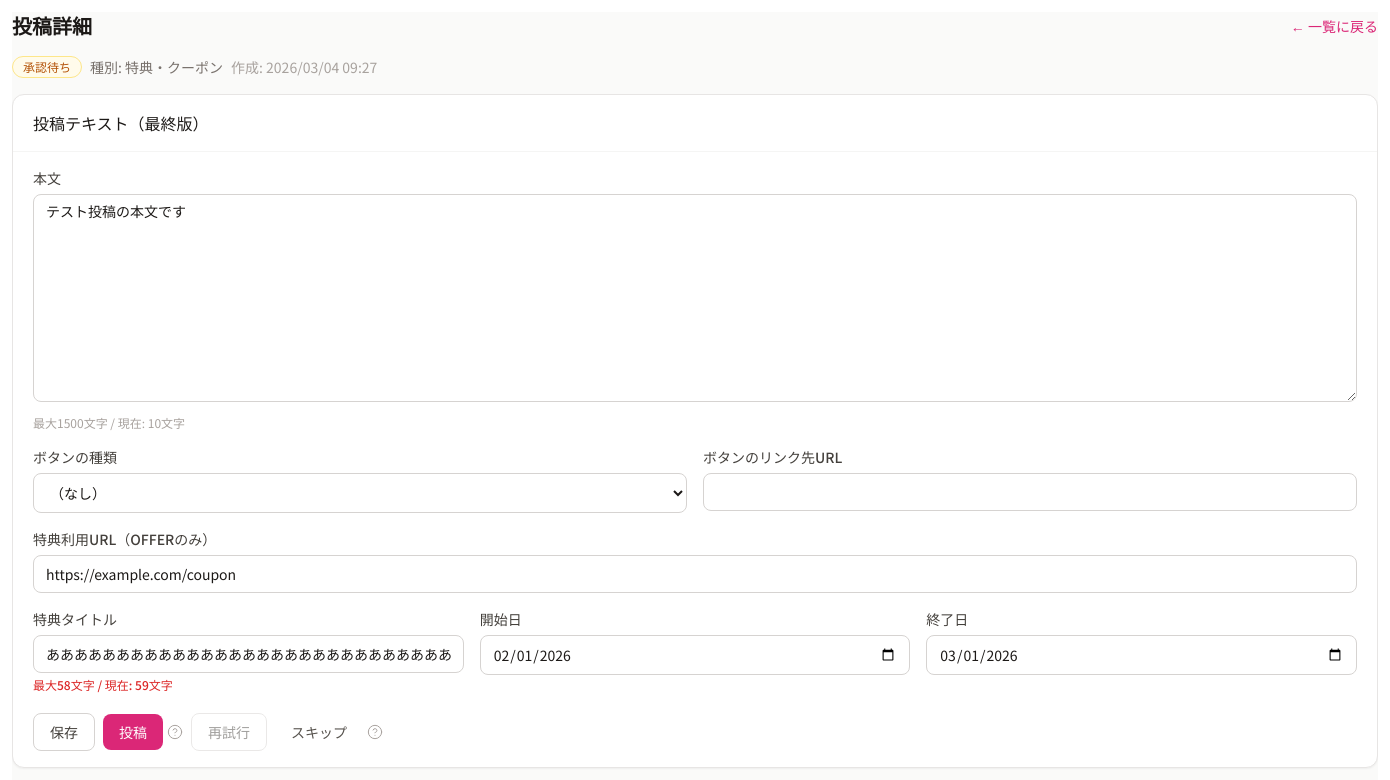
Test: PostDetailPage › OFFER post type › shows validation error when event_title exceeds 58 chars
Click the button "保存". click: (64, 732)
box: [33,713,95,751]
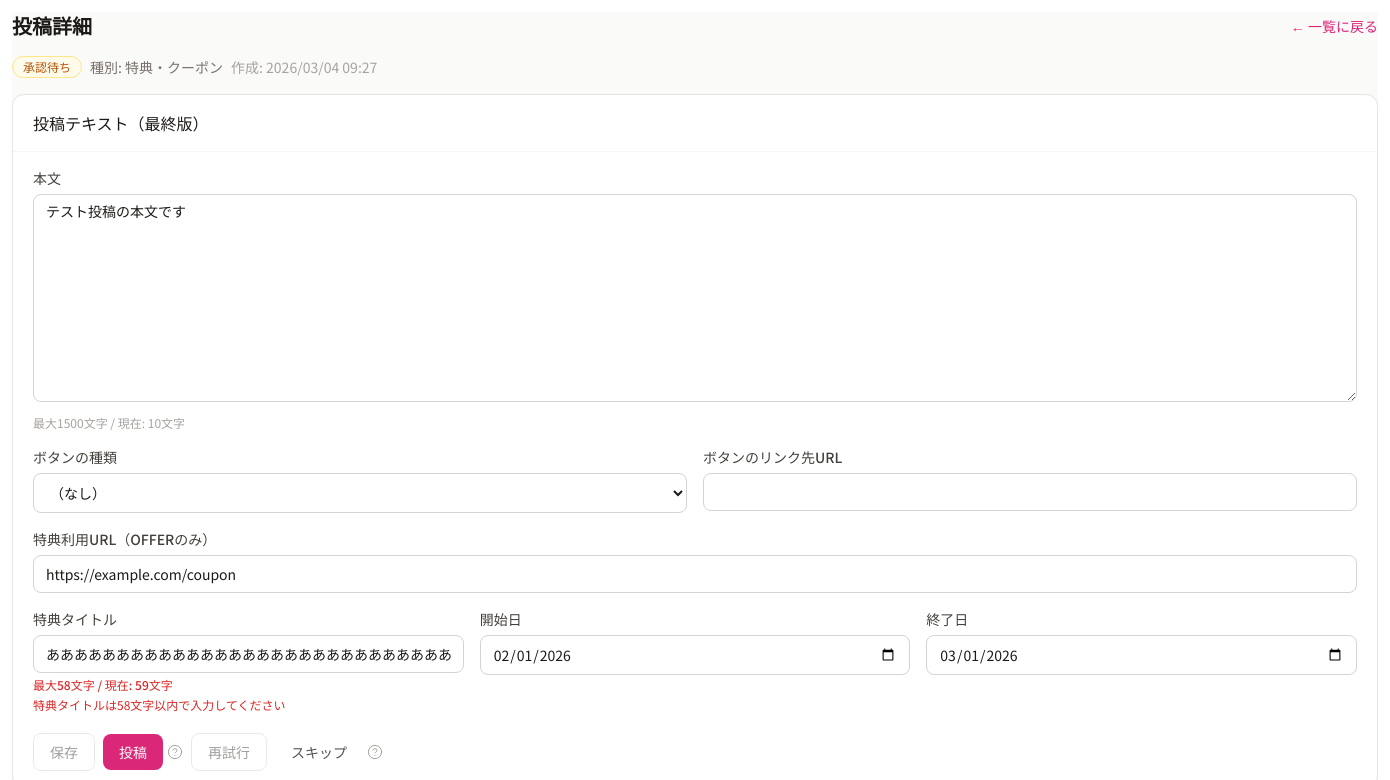
expect the text "特典タイトルは58文字以内で入力してください" is shown: met, box [33,696,286,713]
